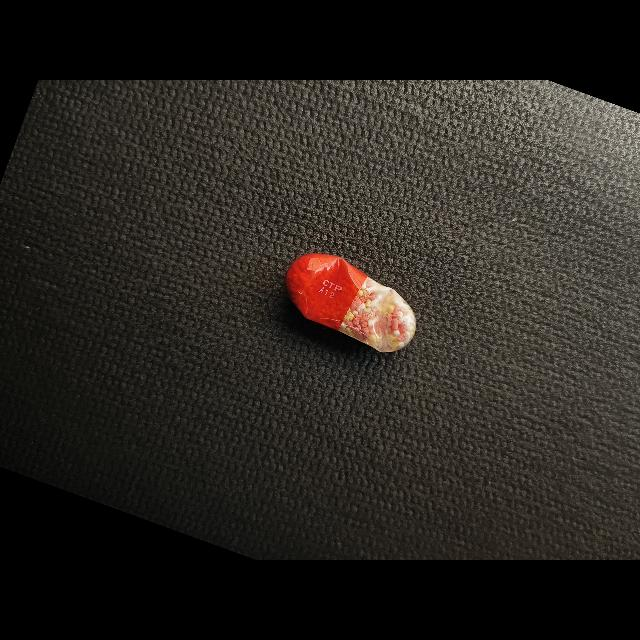Defective Capsule: (285, 254, 417, 353)
